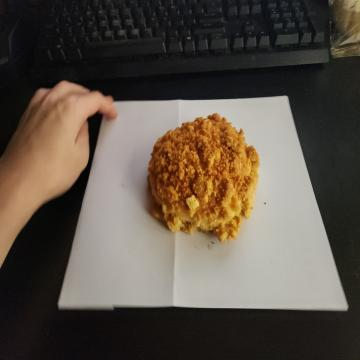soboru_bread: (146, 115, 258, 246)
